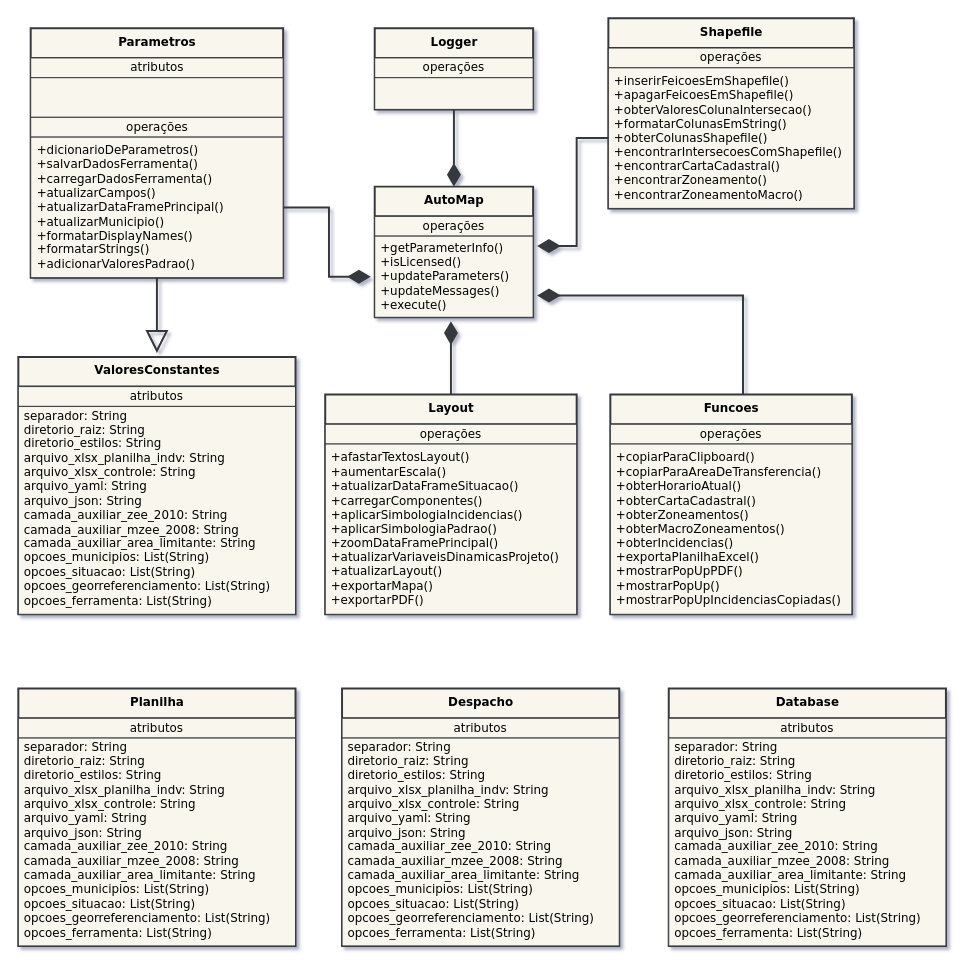
Some shapes in this 969 by 969 pixel diagram are drawn without their labels. Here are the shapes that lost their labels. From the top down, the centre of each, then its label:
At (x=156, y=97): "parametros_lista: List(String) salvar_parametros: List(String)".
At (x=453, y=93): "+setupLogger()".
